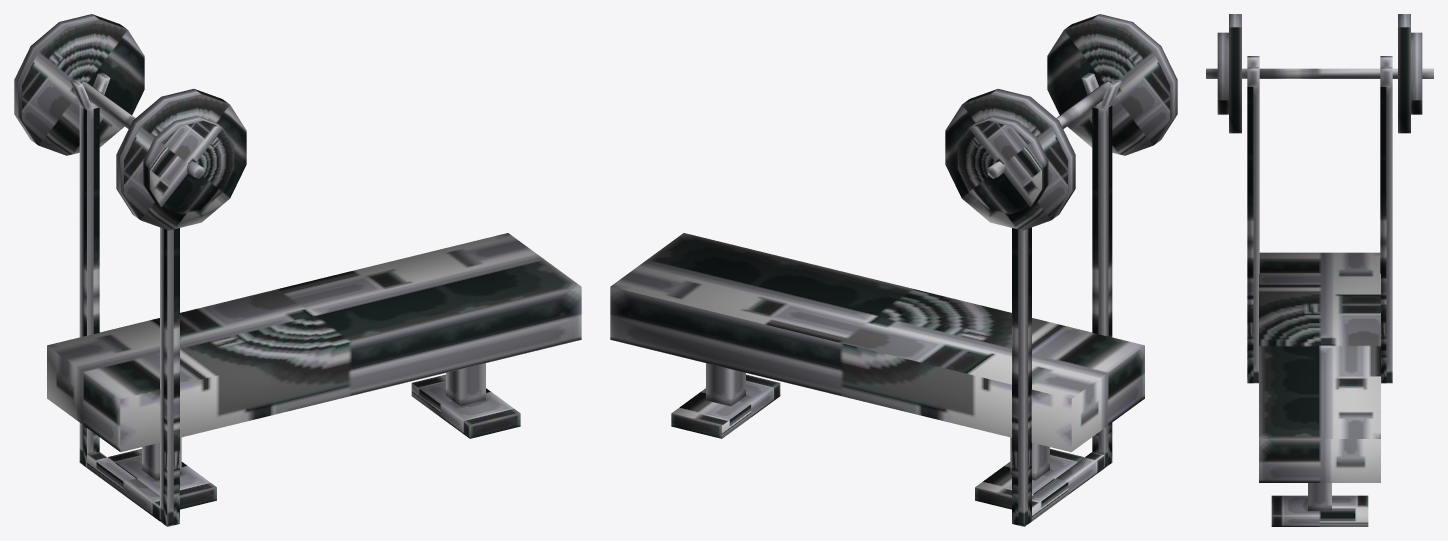
File: int_wrs_bedS.dae
The picture shows the model from 3 angles, left to right: view 1: azimuth 30°, elevation 25°; view 2: azimuth 150°, elevation 25°; view 3: azimuth 270°, elevation 25°; orthographic projection. The views are drawn at different scales.
Visible parts, largest first — view 1: int_wrs_bedS; view 2: int_wrs_bedS; view 3: int_wrs_bedS.
Part boxes in pixels (x1,y1,x2,y2): int_wrs_bedS: (14, 14, 581, 526); int_wrs_bedS: (610, 14, 1177, 526); int_wrs_bedS: (1206, 14, 1433, 526).
Size of the model in its own units: 60.2 by 52.6 by 30.14.
1 material, 1 textured.
